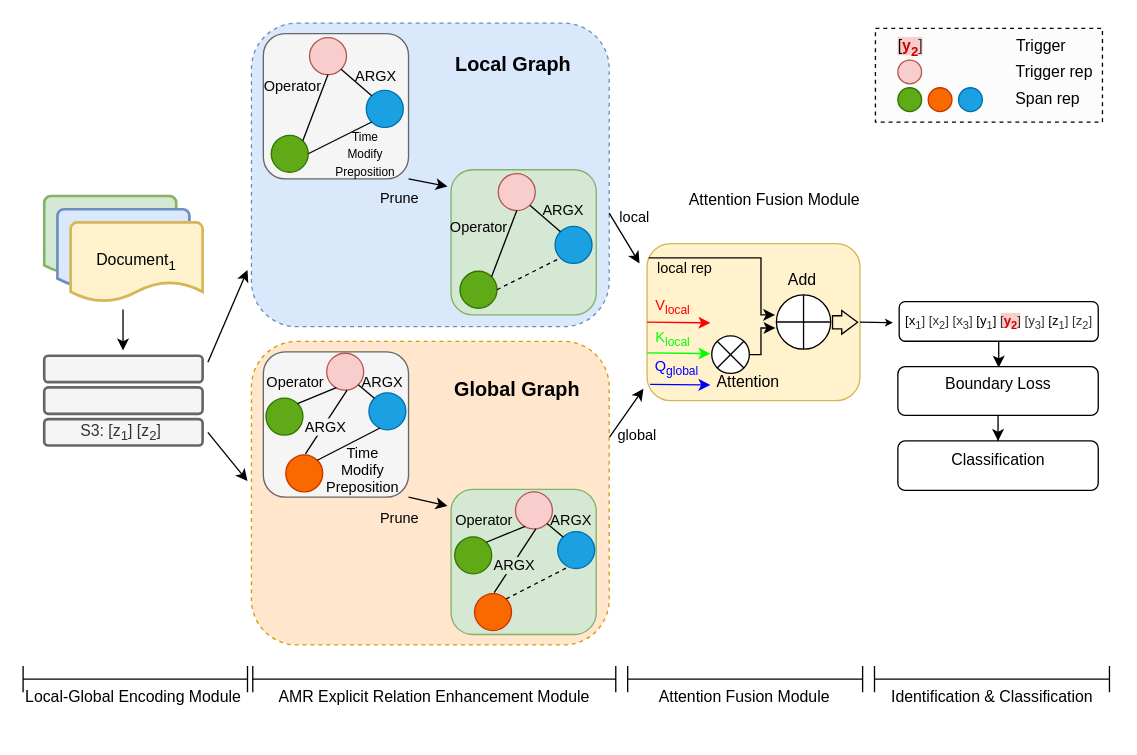
Some shapes in this 1137 by 755 pixel diagram are drawn without their labels. Here are the shapes that lost their labels. From the top down, the centre of each, then its label:
point 122,368: S1: [x 1 ] [x 2 ] [x 3 ]
point 122,399: S2: [y 1 ] [ y 2 ] [y 3 ]
